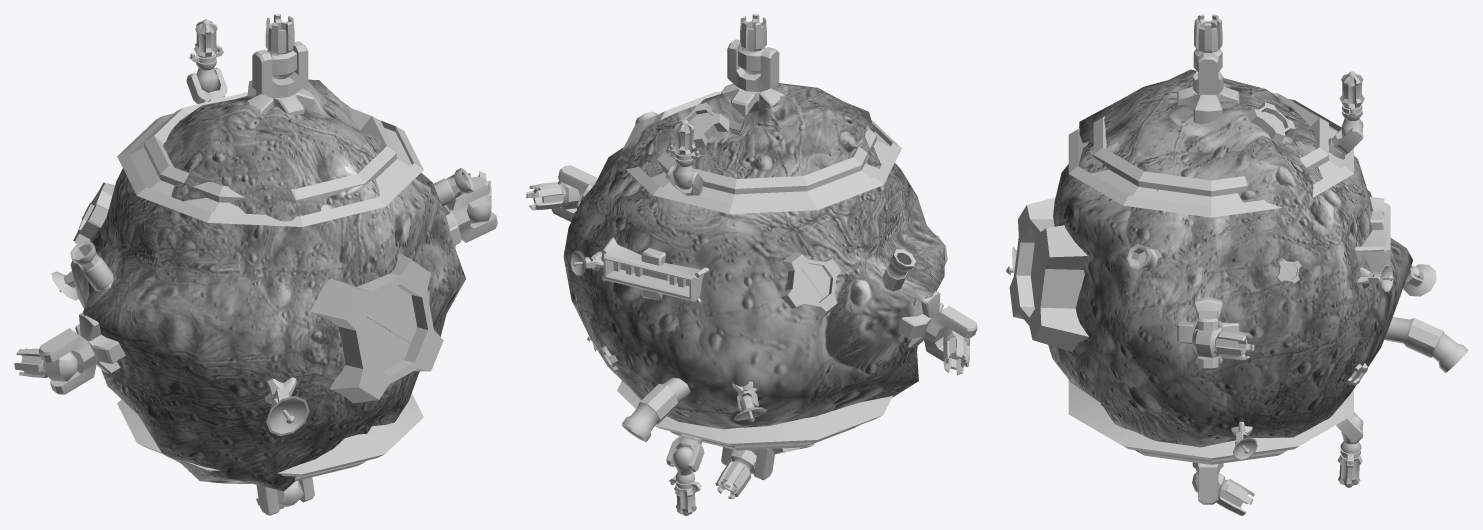
File: Basa_2.FBX
3 views of the same model, side by side, from view 1: azimuth 30°, elevation 25°; view 2: azimuth 150°, elevation 25°; view 3: azimuth 270°, elevation 25° (orthographic). The views are drawn at different scales.
Parts seen in each view (by area): view 1: Asteroid, Rels001, Luk, Rels002, Dviglo00302, Dviglo00102, Luk_dver_0, Luk_dver_1, Dviglo00103, Eldostrel00103, Dviglo00202, Dviglo00303 (+9 smaller); view 2: Asteroid, Rels001, Rels002, Angar, Cylinder001, Dviglo00102, Luk002, Dviglo00302, Dviglo00103, Eldostrel00103, Eldostrel105, Dviglo00403 (+11 smaller); view 3: Asteroid, Rels001, Luk, Rels002, Cylinder001, Angar, Dviglo00203, Dviglo00101, Dviglo00103, Eldostrel00103, Eldostrel105, Dviglo00403 (+9 smaller).
Part boxes in pixels (left/top/right/bottom): Asteroid: left=70, top=79, right=465, bottom=491; Rels001: left=117, top=92, right=423, bottom=226; Luk: left=310, top=253, right=443, bottom=403; Rels002: left=117, top=393, right=423, bottom=480; Dviglo00302: left=39, top=328, right=96, bottom=394; Dviglo00102: left=252, top=41, right=308, bottom=97; Luk_dver_0: left=367, top=286, right=417, bottom=342; Luk_dver_1: left=362, top=318, right=410, bottom=371; Dviglo00103: left=265, top=14, right=296, bottom=79; Eldostrel00103: left=188, top=19, right=223, bottom=92; Dviglo00202: left=446, top=177, right=497, bottom=242; Dviglo00303: left=14, top=348, right=78, bottom=381; Asteroid: left=563, top=83, right=945, bottom=429; Rels001: left=621, top=91, right=901, bottom=213; Rels002: left=617, top=381, right=892, bottom=450; Angar: left=601, top=237, right=709, bottom=304; Cylinder001: left=621, top=377, right=690, bottom=442; Dviglo00102: left=727, top=39, right=779, bottom=91; Luk002: left=781, top=251, right=840, bottom=317; Dviglo00302: left=924, top=306, right=977, bottom=361; Dviglo00103: left=738, top=14, right=766, bottom=74; Eldostrel00103: left=668, top=119, right=701, bottom=189; Eldostrel105: left=669, top=446, right=701, bottom=515; Dviglo00403: left=715, top=450, right=756, bottom=499; Asteroid: left=1048, top=69, right=1412, bottom=447; Rels001: left=1068, top=92, right=1353, bottom=217; Luk: left=1009, top=197, right=1088, bottom=351; Rels002: left=1068, top=380, right=1353, bottom=464; Cylinder001: left=1384, top=317, right=1468, bottom=372; Angar: left=1355, top=197, right=1390, bottom=272; Dviglo00203: left=1192, top=327, right=1254, bottom=360; Dviglo00101: left=1177, top=86, right=1239, bottom=124; Dviglo00103: left=1193, top=14, right=1222, bottom=72; Eldostrel00103: left=1339, top=71, right=1364, bottom=137; Eldostrel105: left=1337, top=414, right=1362, bottom=487; Dviglo00403: left=1192, top=472, right=1254, bottom=515.
Size of the model in its own units: 1075 by 1094 by 931.
